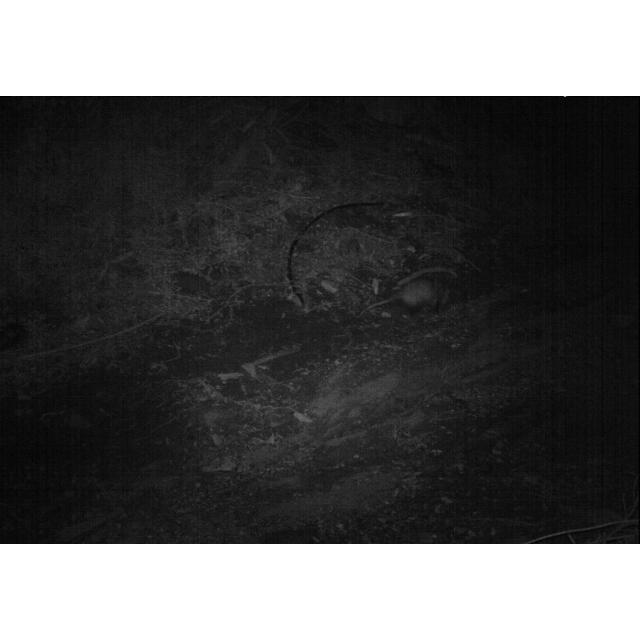animals: (361, 278, 457, 314)
